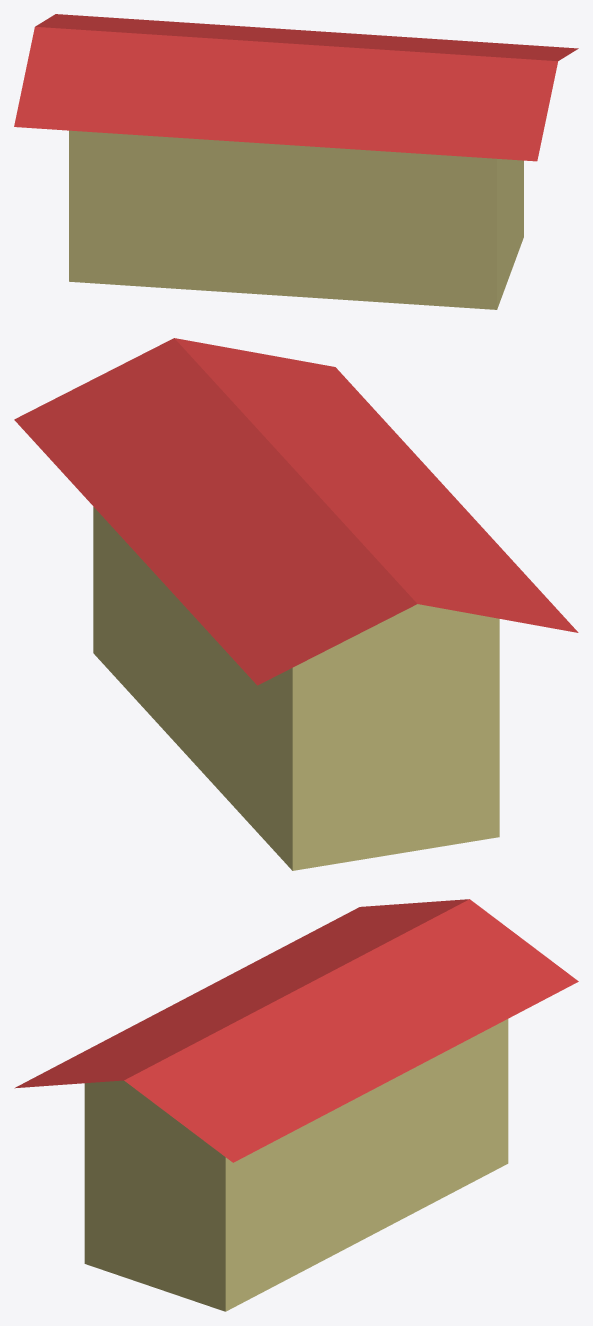
3 views of the same model, one above another, from view 1: azimuth 30°, elevation 25°; view 2: azimuth 150°, elevation 25°; view 3: azimuth 270°, elevation 25° (orthographic). The views are drawn at different scales.
Size of the model in its own units: 24.15 by 22.52 by 9.85.
